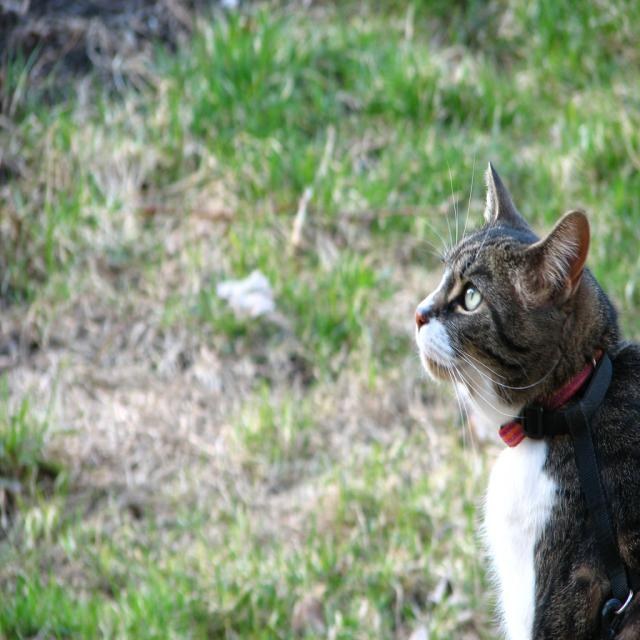Cat: (410, 158, 639, 638)
